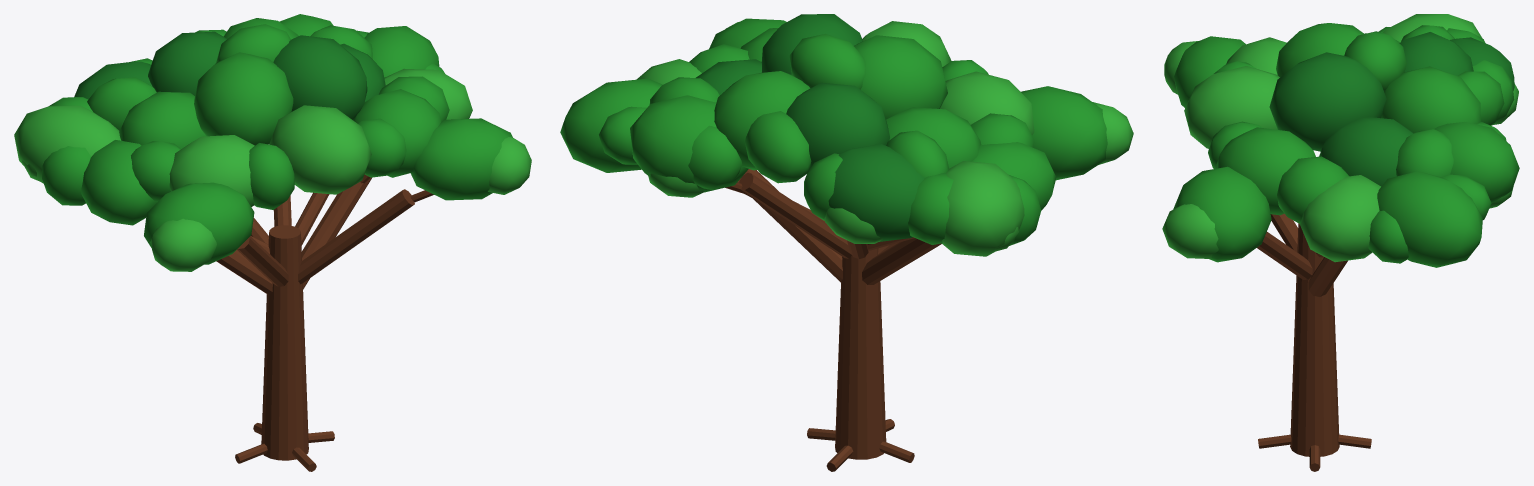
The model's file is tree1.fbx.
3 renders of one model, left to right at view 1: azimuth 30°, elevation 25°; view 2: azimuth 150°, elevation 25°; view 3: azimuth 270°, elevation 25°, orthographic. The views are drawn at different scales.
Visible parts, largest first — view 1: Main_Trunk, Leaf_Bunch_9, Leaf_Bunch_11, Leaf_Bunch_17, Leaf_Bunch_10, Leaf_Bunch_3, Leaf_Bunch_1, Leaf_Bunch_2, Leaf_Bunch_6, Leaf_Bunch_5, Leaf_Bunch_7, Leaf_Bunch_14 (+21 smaller); view 2: Main_Trunk, Leaf_Bunch_4, Leaf_Bunch_1, Leaf_Bunch_3, Leaf_Bunch_7, Leaf_Bunch_9, Leaf_Bunch_12, Leaf_Bunch_15, Leaf_Bunch_8, Small_Leaf_Bunch_7, Leaf_Bunch_6, Small_Leaf_Bunch_8 (+22 smaller); view 3: Main_Trunk, Leaf_Bunch_10, Leaf_Bunch_15, Leaf_Bunch_17, Leaf_Bunch_16, Leaf_Bunch_11, Leaf_Bunch_8, Leaf_Bunch_14, Leaf_Bunch_13, Leaf_Bunch_12, Small_Leaf_Bunch_12, Leaf_Bunch_3 (+18 smaller).
Part boxes in pixels (bbox=[...]): Main_Trunk: bbox=[261, 225, 308, 460]; Leaf_Bunch_9: bbox=[194, 52, 293, 145]; Leaf_Bunch_11: bbox=[269, 105, 371, 194]; Leaf_Bunch_17: bbox=[410, 118, 512, 200]; Leaf_Bunch_10: bbox=[273, 35, 367, 120]; Leaf_Bunch_3: bbox=[144, 182, 254, 264]; Leaf_Bunch_1: bbox=[14, 105, 120, 183]; Leaf_Bunch_2: bbox=[81, 140, 156, 225]; Leaf_Bunch_6: bbox=[169, 135, 254, 206]; Leaf_Bunch_5: bbox=[119, 91, 206, 148]; Leaf_Bunch_7: bbox=[148, 31, 226, 95]; Leaf_Bunch_14: bbox=[353, 89, 441, 177]; Main_Trunk: bbox=[835, 248, 886, 459]; Leaf_Bunch_4: bbox=[828, 144, 924, 241]; Leaf_Bunch_1: bbox=[942, 161, 1024, 256]; Leaf_Bunch_3: bbox=[1021, 86, 1107, 180]; Leaf_Bunch_7: bbox=[786, 82, 889, 169]; Leaf_Bunch_9: bbox=[854, 35, 947, 119]; Leaf_Bunch_12: bbox=[630, 95, 748, 192]; Leaf_Bunch_15: bbox=[560, 78, 662, 172]; Leaf_Bunch_8: bbox=[714, 71, 810, 170]; Small_Leaf_Bunch_7: bbox=[745, 111, 811, 183]; Leaf_Bunch_6: bbox=[940, 71, 1034, 135]; Small_Leaf_Bunch_8: bbox=[789, 33, 865, 89]; Main_Trunk: bbox=[1290, 223, 1339, 456]; Leaf_Bunch_10: bbox=[1269, 52, 1386, 151]; Leaf_Bunch_15: bbox=[1377, 171, 1482, 267]; Leaf_Bunch_17: bbox=[1173, 166, 1271, 262]; Leaf_Bunch_16: bbox=[1300, 175, 1380, 262]; Leaf_Bunch_11: bbox=[1184, 66, 1279, 148]; Leaf_Bunch_8: bbox=[1381, 66, 1480, 133]; Leaf_Bunch_14: bbox=[1216, 127, 1315, 215]; Leaf_Bunch_13: bbox=[1319, 117, 1413, 186]; Leaf_Bunch_12: bbox=[1434, 122, 1519, 203]; Small_Leaf_Bunch_12: bbox=[1277, 156, 1348, 223]; Leaf_Bunch_3: bbox=[1174, 36, 1245, 107].
Size of what is drawn, in the model's own units: 1480 by 1382 by 1083.
